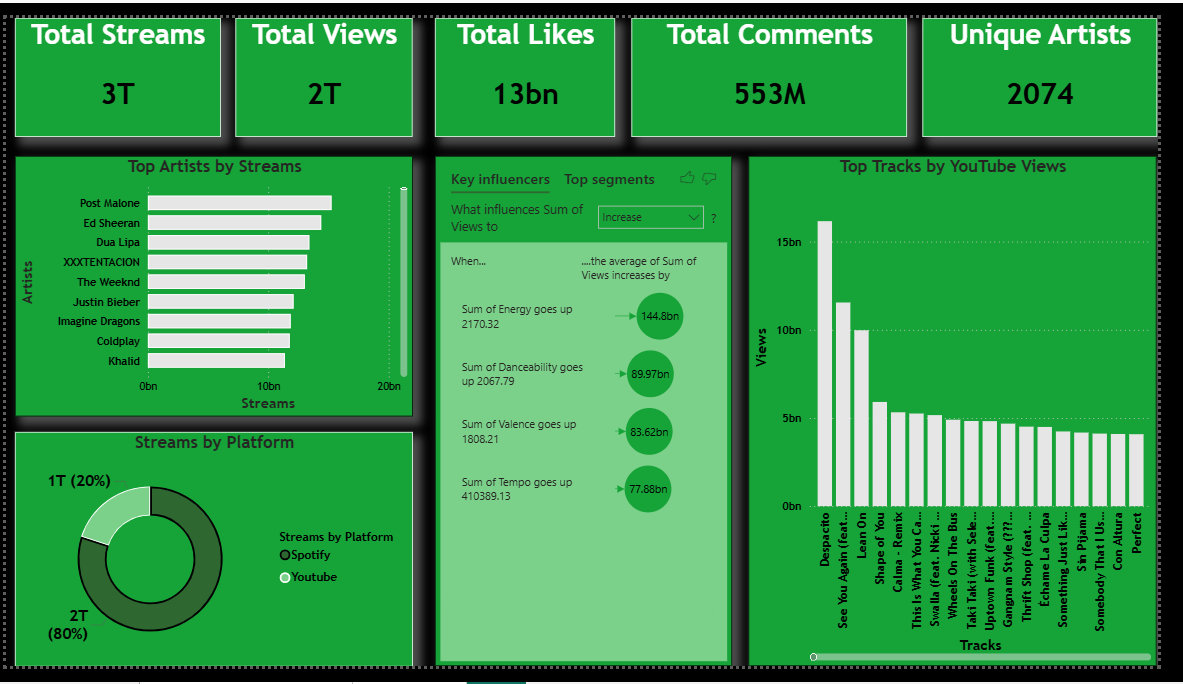

What the dashboard file says about the page in this screenshot:
{"tool":"powerbi","page":{"name":"Spotify Dashboard","canvas":[1280,720],"ordinal":0},"visuals":[{"type":"card","title":"Total Streams","fields":{"Values":["Sum(spotify_cleaned.Stream)"]},"box":[10,66.7,228.3,131.7],"z":0},{"type":"card","title":"Total Views","fields":{"Values":["Sum(spotify_cleaned.Views)"]},"box":[258.3,68.3,195,131.7],"z":1000},{"type":"card","title":"Total Likes","fields":{"Values":["Sum(spotify_cleaned.Likes)"]},"box":[471.7,68.3,200,131.7],"z":2000},{"type":"card","title":"Total Comments","fields":{"Values":["Sum(spotify_cleaned.Comments)"]},"box":[690,66.7,305,131.7],"z":3000},{"type":"card","title":"Unique Artists","fields":{"Values":["Count(spotify_cleaned.Artist)"]},"box":[1018.3,66.7,243.3,131.7],"z":4000},{"type":"clusteredBarChart","title":"Top Artists by Streams ","fields":{"Category":["spotify_cleaned.Artist"],"Y":["Sum(spotify_cleaned.Stream)"]},"box":[10,233.3,441.7,211.7],"z":5000},{"type":"clusteredColumnChart","title":"Top Tracks by YouTube Views","fields":{"Category":["spotify_cleaned.Track"],"Y":["Sum(spotify_cleaned.Views)"]},"box":[826.7,360,435,360],"z":6000},{"type":"donutChart","title":"Streams by Platform","fields":{"Category":["spotify_cleaned.most_playedon"],"Y":["Sum(spotify_cleaned.Stream)"]},"box":[10,536,442,184],"z":7000},{"type":"keyDriversVisual","fields":{"Target":["spotify_cleaned.Views"],"ExplainBy":["Sum(spotify_cleaned.Energy)","Sum(spotify_cleaned.Danceability)","Sum(spotify_cleaned.Tempo)","Sum(spotify_cleaned.Valence)","spotify_cleaned.Album_type","spotify_cleaned.Licensed"]},"box":[471.7,233.3,330,380],"z":8000},{"type":"textbox","box":[10,0,1252,66],"z":8001},{"type":"textbox","box":[10,461.7,443.3,61.7],"z":8002},{"type":"textbox","box":[471.7,628.3,330,91.7],"z":8003},{"type":"textbox","box":[826.7,233.3,435,106.7],"z":8004}]}

Visuals, with their boxes in screenshot pixels (x1, y1, x2, y2), scaled from the page's 1280x720 canvas onto the 1183x684 screenshot:
"Total Streams" card: (9, 63, 220, 188)
"Total Views" card: (239, 65, 419, 190)
"Total Likes" card: (436, 65, 621, 190)
"Total Comments" card: (638, 63, 920, 188)
"Unique Artists" card: (941, 63, 1166, 188)
"Top Artists by Streams " clusteredBarChart: (9, 222, 417, 423)
"Top Tracks by YouTube Views" clusteredColumnChart: (764, 342, 1166, 683)
"Streams by Platform" donutChart: (9, 509, 418, 683)
keyDriversVisual - spotify_cleaned.Views x Sum(spotify_cleaned.Energy): (436, 222, 741, 583)
textbox: (9, 0, 1166, 63)
textbox: (9, 439, 419, 497)
textbox: (436, 597, 741, 683)
textbox: (764, 222, 1166, 323)
